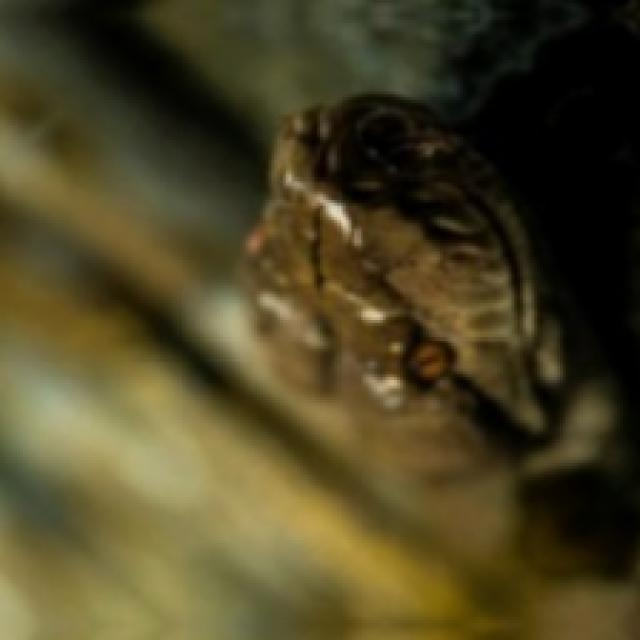reticulated python: (246, 94, 634, 571)
